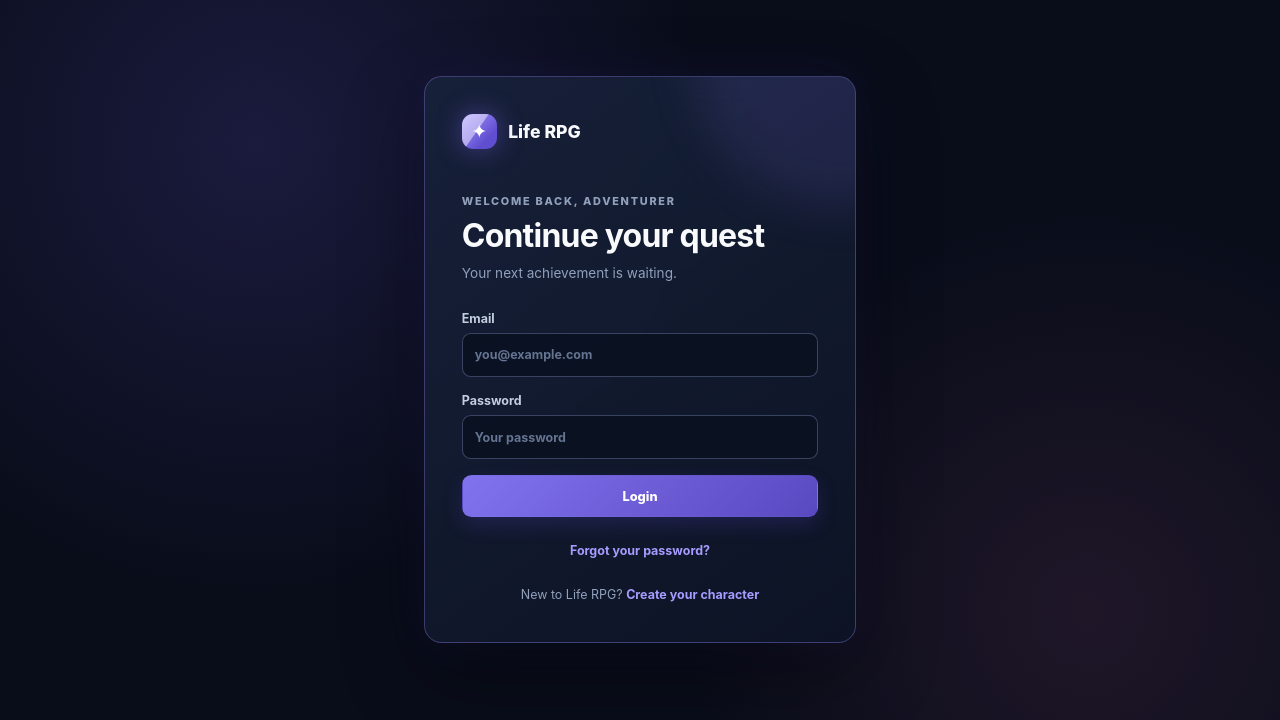
Test: Login page › renders the form and submits credentials
Expected: the heading "Continue your quest" is shown, [462,216,764,255]
Type "hero@example.com" into the field labelled "Email" at (640, 355), box [462,333,818,377]
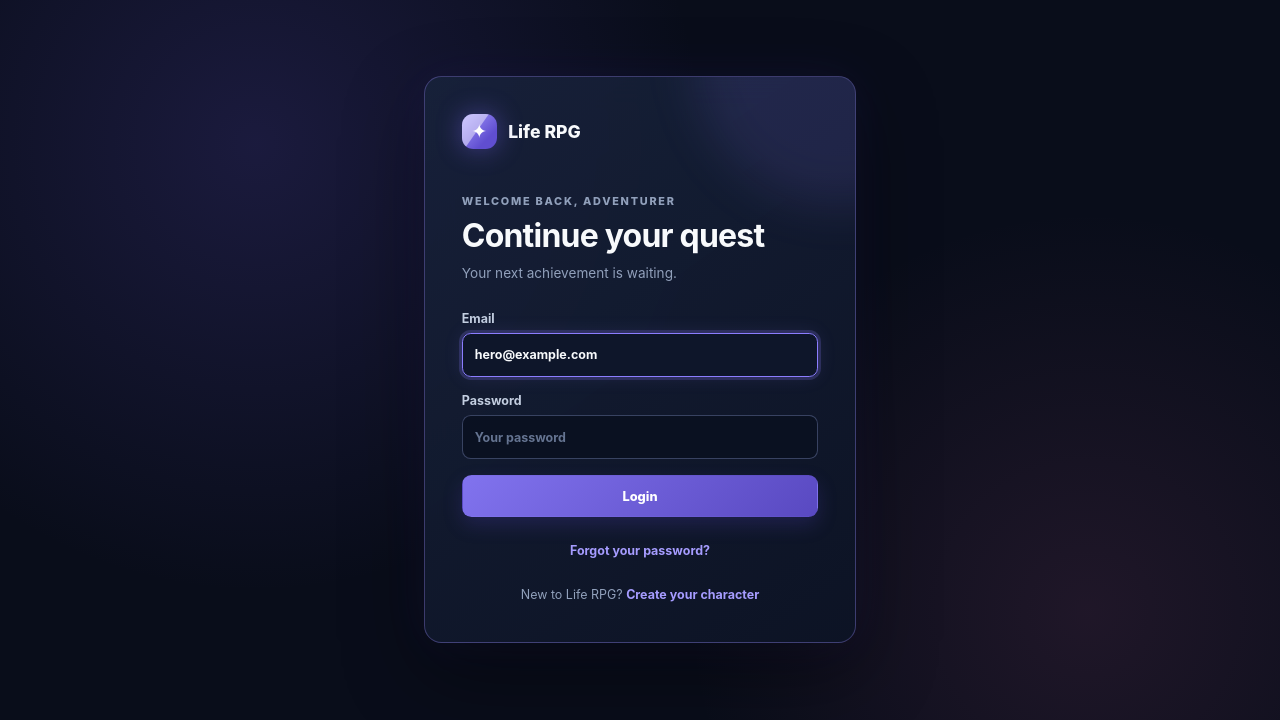
Type "password" into the password field labelled "Password" at (640, 438), box [462,416,818,460]
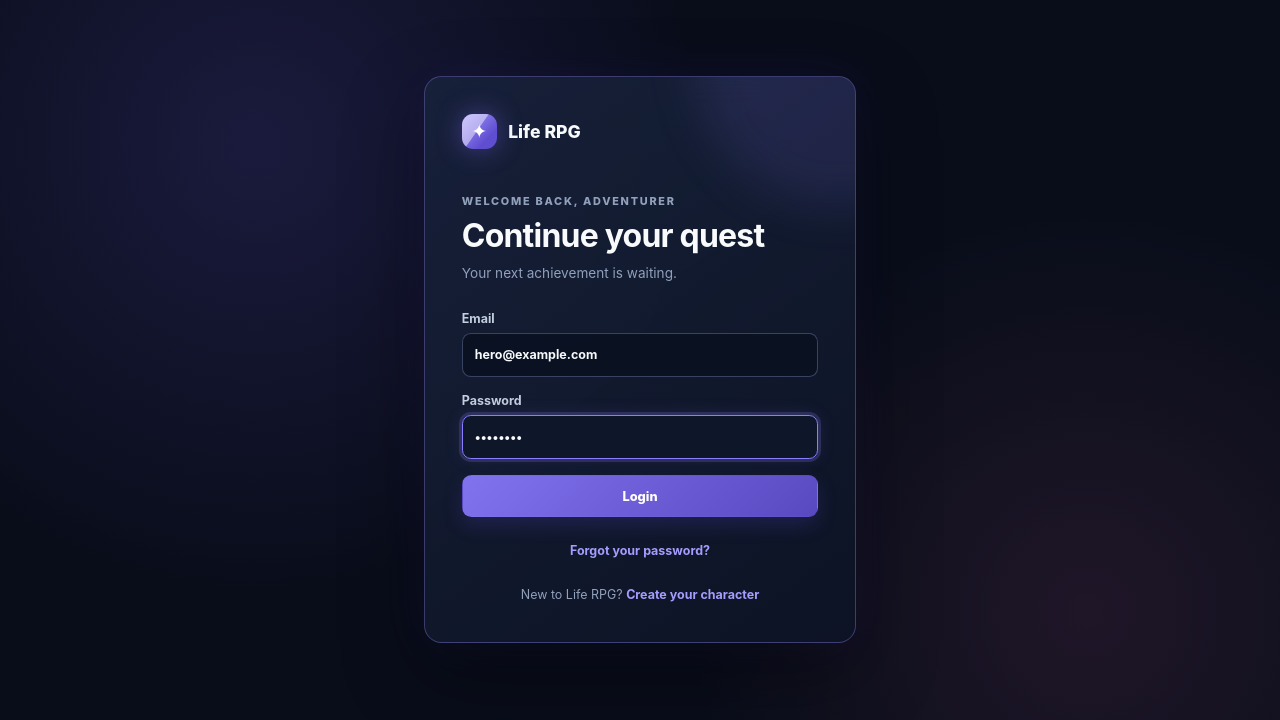
Click the button "Login" at (640, 497), box [462,476,818,518]
(page scrolled)
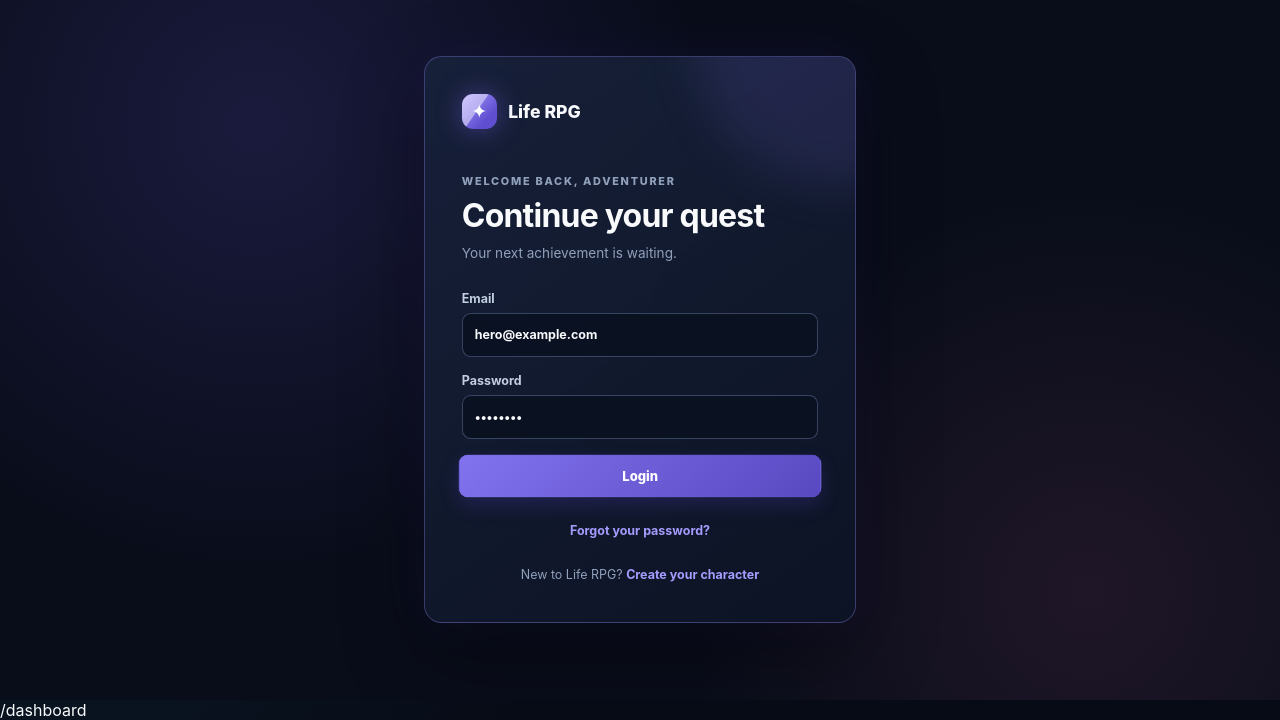
Expected: the text with test id "location" reads "/dashboard", [0,700,86,719]
